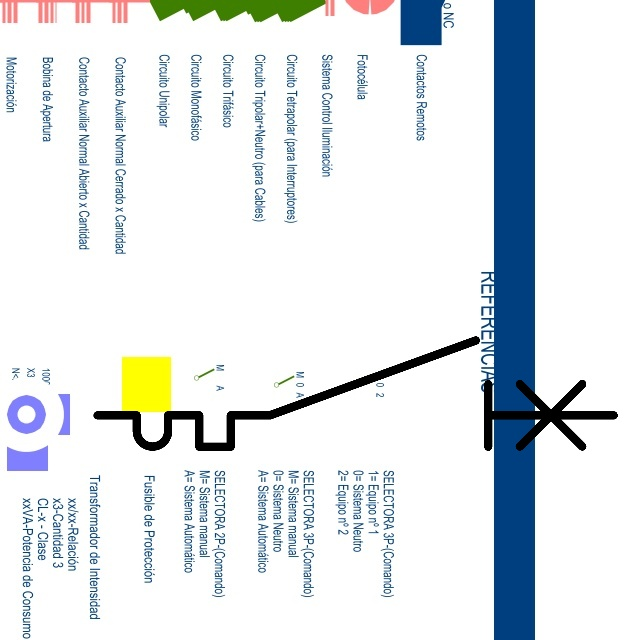interruptor_termomagnetico: (84, 327, 627, 460)
